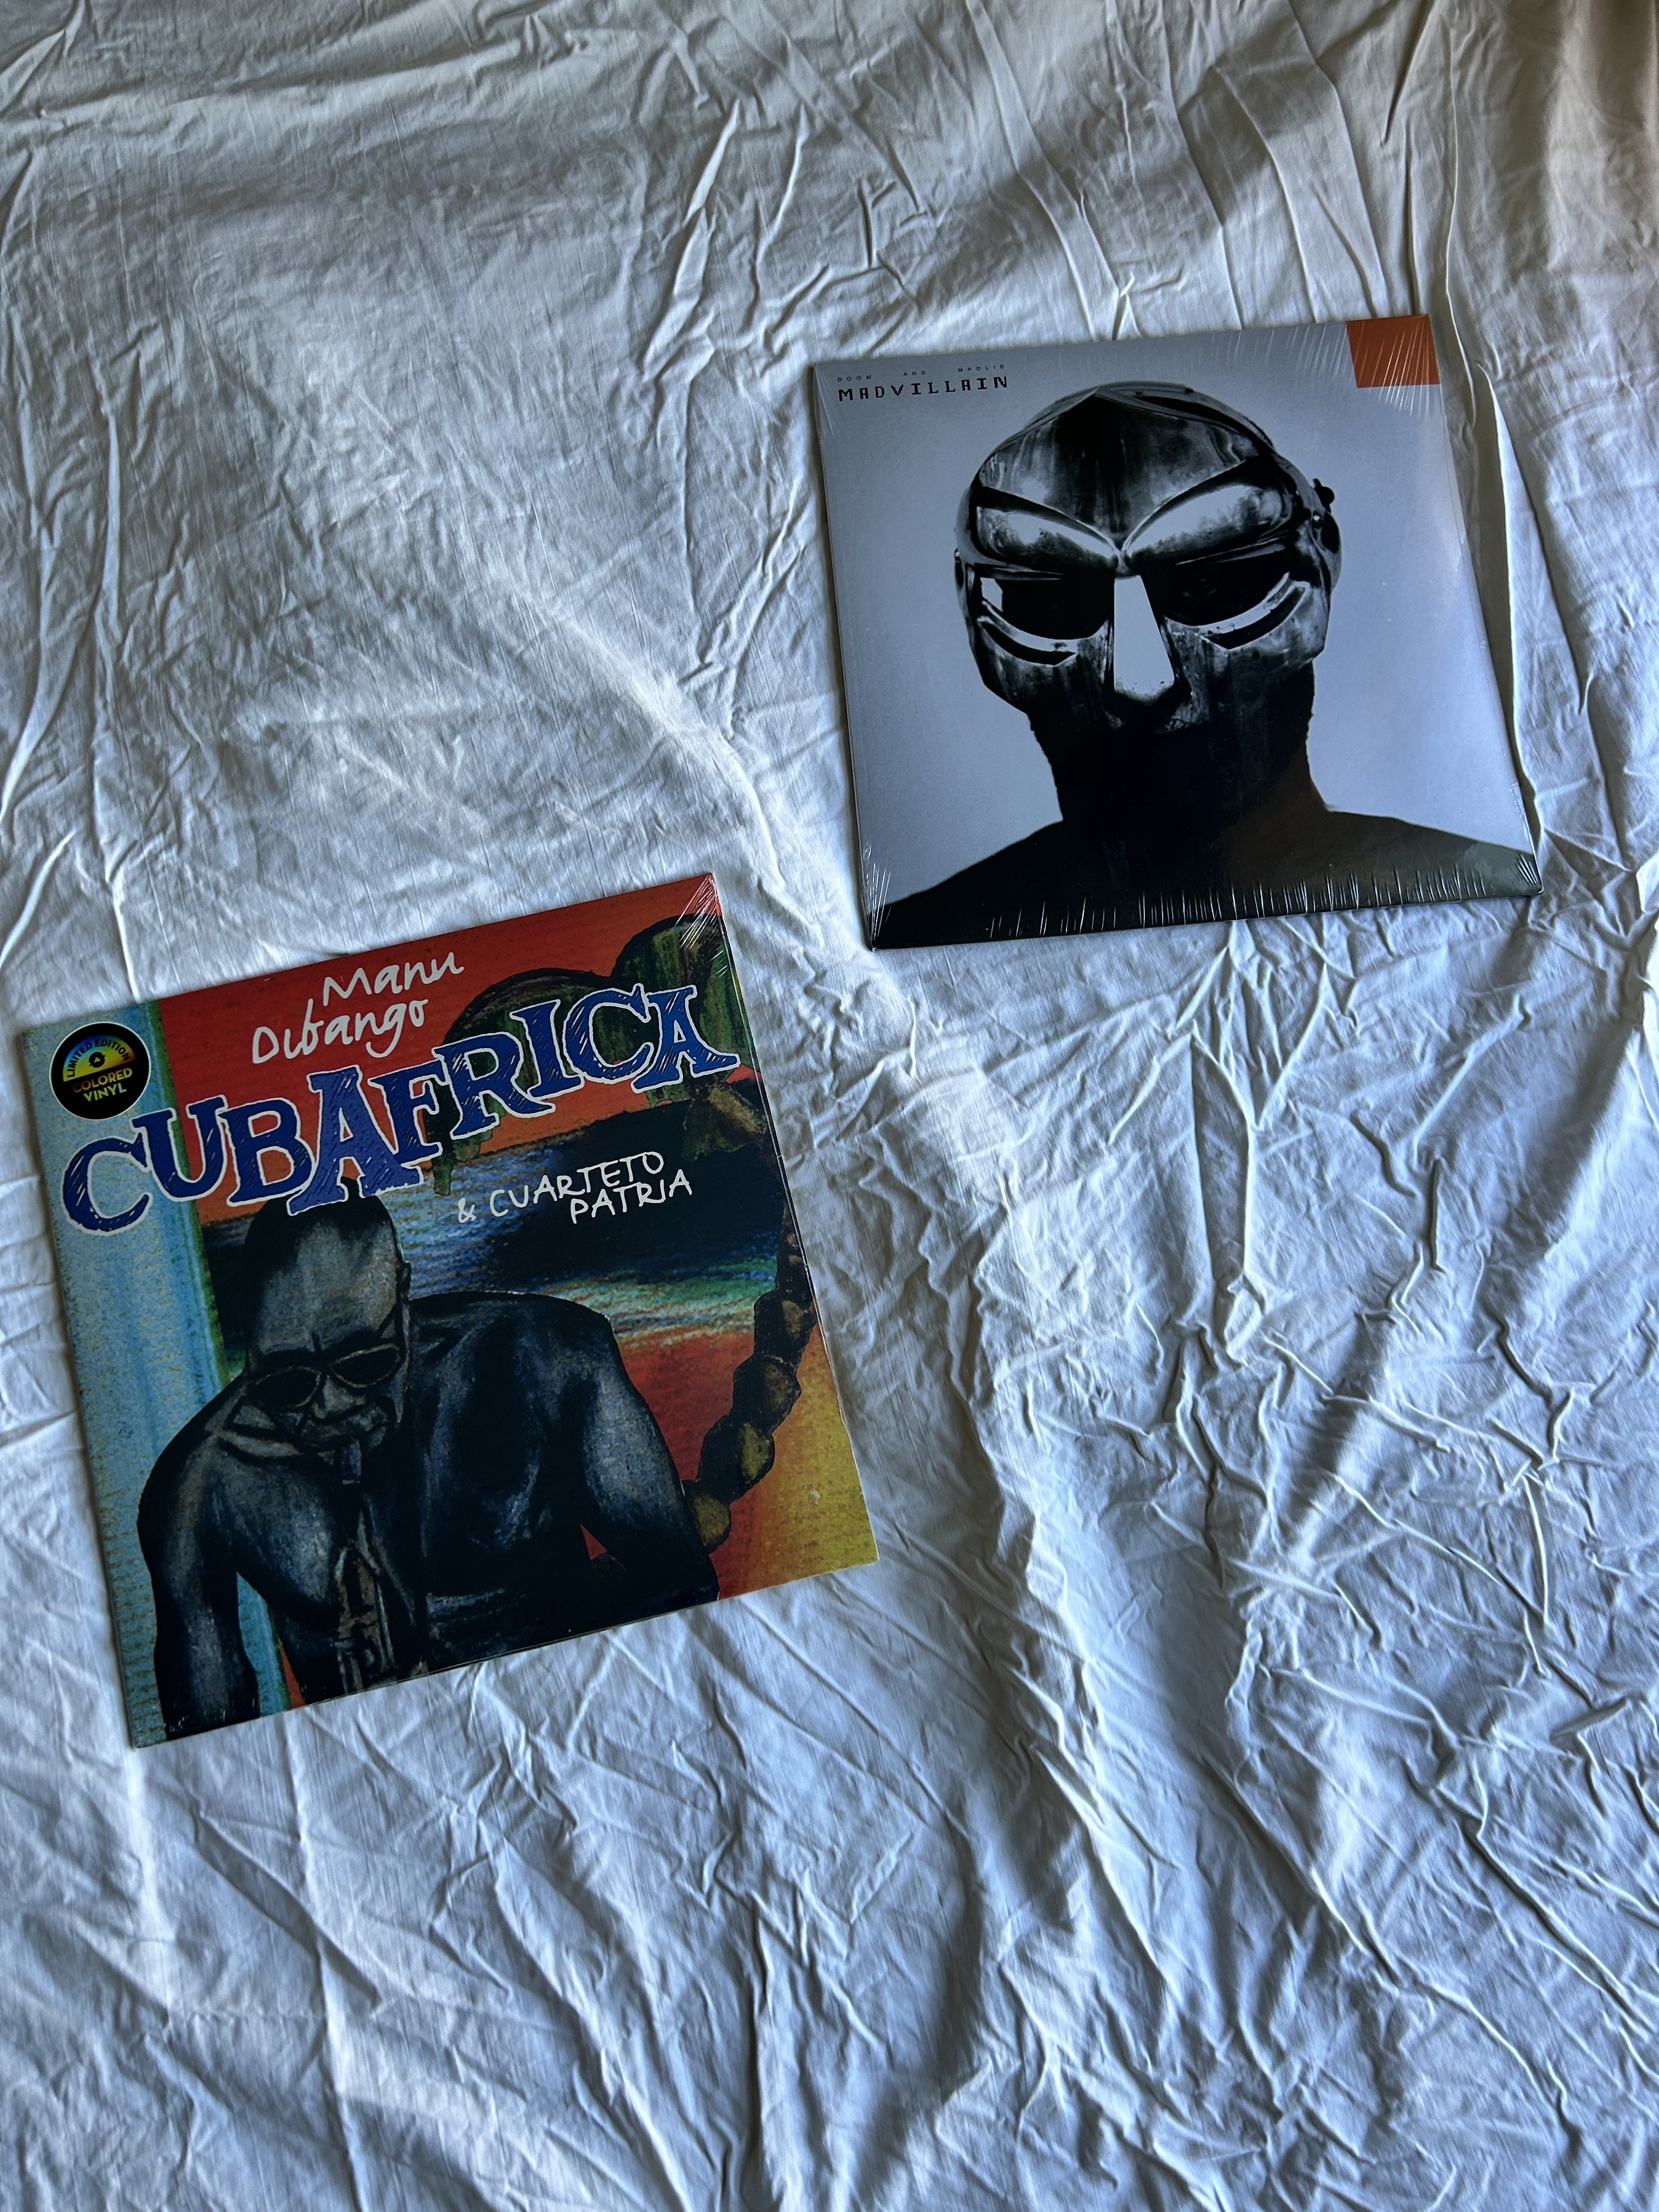madvillain_madvillainy: (786, 357, 1502, 968)
manu dibango_cubafrica: (0, 1008, 762, 1761)
